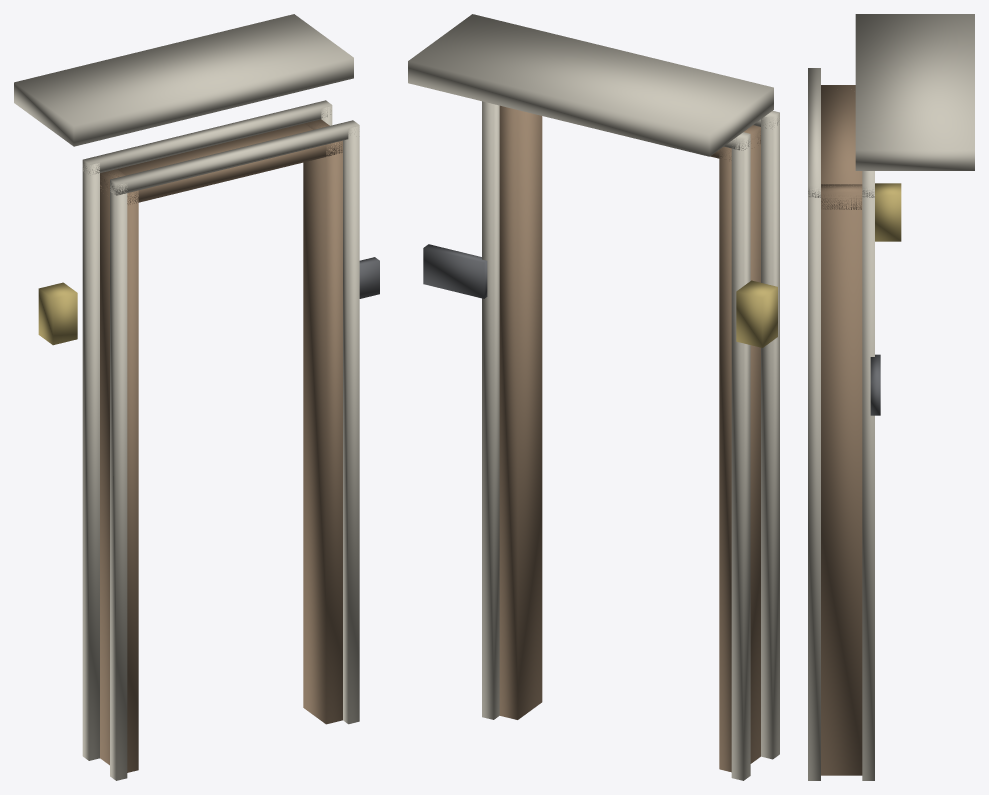
File: doorway_motel_w76_h220_d16.glb
The picture shows the model from 3 angles, left to right: view 1: azimuth 30°, elevation 25°; view 2: azimuth 150°, elevation 25°; view 3: azimuth 270°, elevation 25°; orthographic projection. The views are drawn at different scales.
Parts seen in each view (by area): view 1: world; view 2: world; view 3: world.
Boxes of the visible parts, x1,y1,x2,y2 form: world: (14,14,379,780); world: (408,14,779,780); world: (808,14,974,780).
Bounding box in the file's own units: 1.32 × 2.49 × 0.5882.
